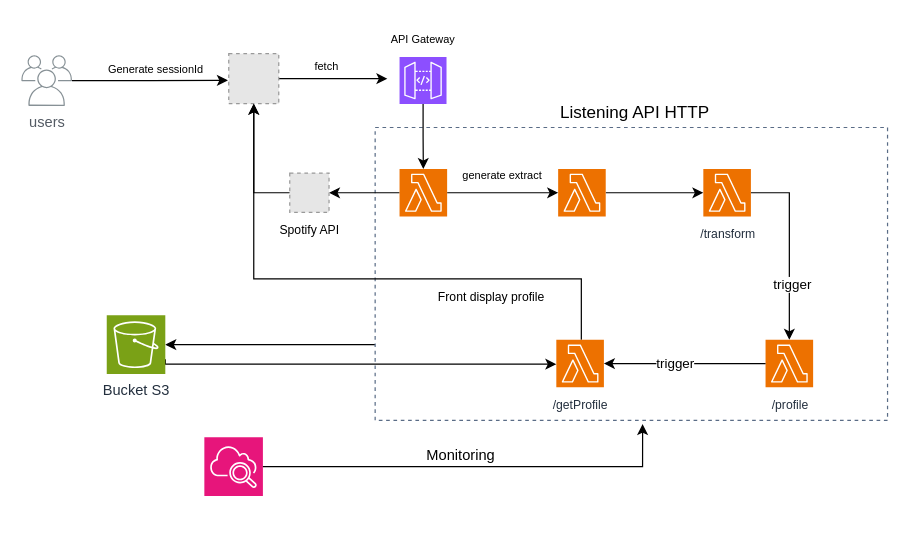
Image size: 909x543. Some labels were removed from this diagram. Grey dashed boxes stand in for pictures. The box of each missing label's shape, as (x1, y1, x2, y2) in pixels:
/extract-simulate: (557, 168, 606, 217)
/search: (398, 168, 447, 217)
Cloudwatch: (203, 436, 263, 496)
